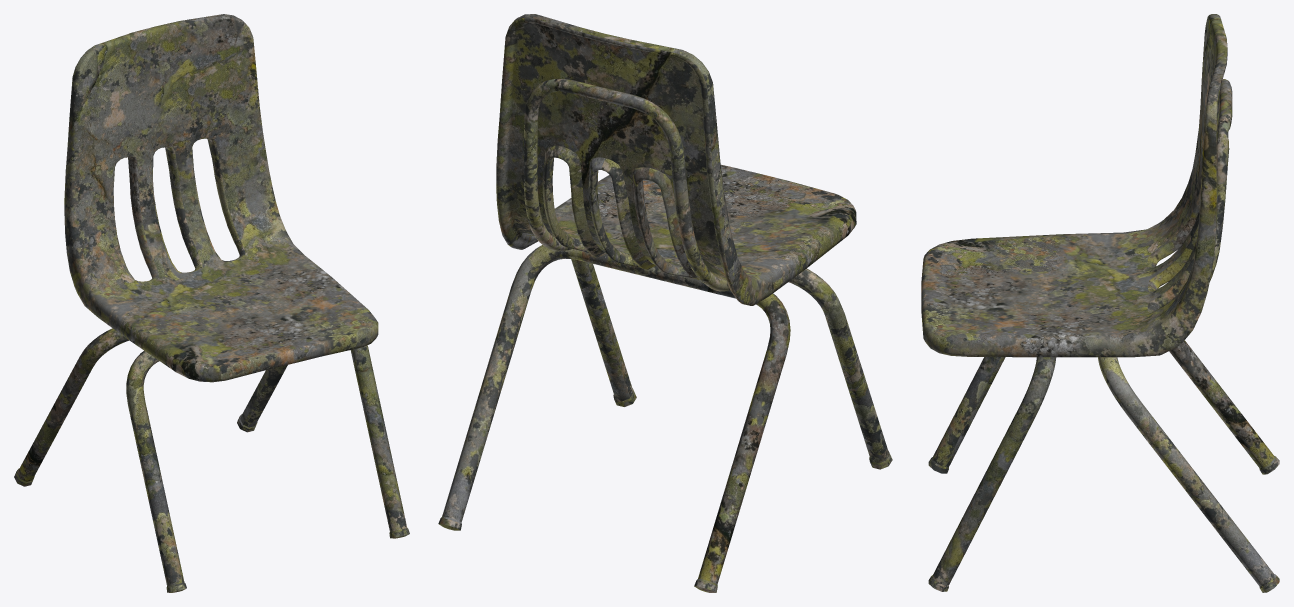
The model's file is SchoolChair_01.gltf.
3 views of the same model, side by side, from view 1: azimuth 30°, elevation 25°; view 2: azimuth 150°, elevation 25°; view 3: azimuth 270°, elevation 25° (orthographic). The views are drawn at different scales.
Parts seen in each view (by area): view 1: SchoolChair_01; view 2: SchoolChair_01; view 3: SchoolChair_01.
Part boxes in pixels (<box>): SchoolChair_01: <box>14,14,409,592</box>; SchoolChair_01: <box>438,14,892,592</box>; SchoolChair_01: <box>921,14,1279,592</box>.
Size of the model in its own units: 0.5659 by 1.01 by 0.6753.
